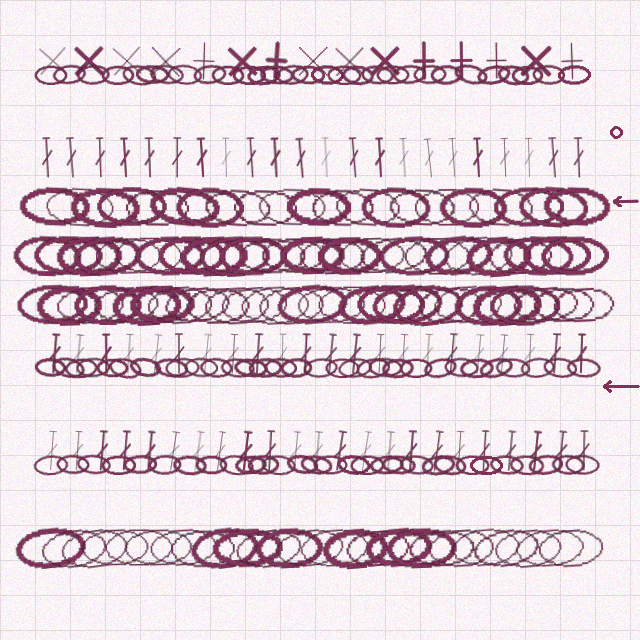chain: (468, 522, 543, 573), (57, 523, 132, 573), (37, 523, 111, 573), (231, 523, 305, 573), (390, 281, 466, 329), (272, 524, 348, 572), (422, 231, 496, 280), (188, 523, 262, 572), (335, 281, 409, 329), (275, 281, 350, 328), (370, 281, 445, 328), (160, 281, 233, 329), (147, 183, 221, 230), (356, 232, 430, 279), (441, 232, 515, 279), (13, 524, 87, 571), (448, 524, 522, 571), (297, 525, 371, 571), (413, 281, 485, 328), (341, 524, 413, 571), (363, 524, 435, 571), (71, 233, 144, 279), (90, 282, 163, 328), (218, 282, 291, 328), (255, 282, 328, 328), (470, 282, 543, 328), (491, 525, 564, 571), (513, 525, 586, 571), (43, 184, 117, 229), (53, 282, 126, 327), (431, 282, 504, 327), (320, 525, 391, 571), (198, 234, 272, 278), (332, 184, 404, 229), (465, 184, 537, 229), (517, 184, 589, 229), (144, 282, 216, 327), (509, 282, 581, 327), (147, 525, 219, 570), (405, 525, 477, 570), (535, 525, 607, 570), (464, 233, 534, 279), (378, 234, 451, 278), (502, 234, 575, 278), (238, 283, 311, 327), (484, 233, 555, 278), (425, 525, 496, 570), (201, 185, 273, 229), (110, 283, 182, 327), (201, 283, 273, 327), (211, 526, 283, 570), (122, 526, 195, 569), (69, 185, 140, 229), (453, 283, 524, 327), (18, 185, 90, 228), (336, 234, 408, 277), (16, 283, 88, 326), (385, 526, 457, 569), (549, 283, 619, 327), (295, 284, 368, 326), (386, 185, 457, 228), (12, 234, 83, 277), (296, 234, 367, 277), (79, 526, 150, 569), (254, 526, 325, 569), (360, 186, 432, 228), (542, 185, 612, 228), (178, 234, 248, 277), (256, 186, 327, 228), (438, 186, 509, 228), (493, 186, 564, 228), (93, 235, 164, 277), (134, 235, 205, 277), (236, 235, 307, 277), (489, 284, 560, 326), (55, 234, 124, 277), (278, 234, 347, 277), (128, 283, 197, 326), (96, 186, 168, 227), (316, 284, 388, 325), (182, 284, 252, 326), (168, 527, 238, 569), (33, 235, 104, 276), (103, 527, 174, 568), (122, 186, 191, 228), (175, 186, 244, 228), (230, 186, 299, 228), (218, 235, 287, 277), (540, 235, 609, 277), (35, 284, 104, 326), (412, 186, 482, 227), (113, 235, 183, 276), (157, 235, 227, 276), (73, 284, 143, 325), (285, 186, 353, 228), (309, 186, 377, 228), (316, 235, 384, 277), (530, 284, 598, 326), (259, 235, 328, 276), (402, 235, 471, 276), (522, 235, 591, 276), (356, 284, 425, 325), (477, 354, 515, 382), (452, 61, 489, 88), (50, 354, 87, 381), (475, 62, 512, 88), (422, 355, 459, 381), (107, 355, 143, 381), (218, 453, 255, 477), (128, 355, 163, 380), (285, 452, 320, 477), (121, 63, 157, 87), (153, 356, 189, 380), (337, 356, 373, 380), (355, 356, 391, 380), (420, 453, 456, 477), (432, 453, 468, 477), (527, 453, 564, 476), (496, 63, 531, 87), (299, 453, 334, 477), (167, 63, 203, 86), (192, 63, 228, 86), (542, 356, 578, 379), (52, 63, 87, 86), (149, 63, 184, 86), (520, 356, 555, 379), (76, 453, 111, 476), (336, 453, 371, 476), (495, 357, 531, 379), (33, 454, 69, 476), (509, 454, 545, 476), (275, 63, 309, 86), (246, 64, 281, 86), (259, 64, 294, 86), (360, 64, 395, 86), (220, 357, 255, 379), (233, 357, 268, 379), (303, 357, 338, 379), (459, 357, 494, 379), (566, 357, 601, 379), (172, 454, 207, 476), (261, 454, 296, 476), (369, 454, 404, 476), (381, 454, 416, 476), (399, 454, 434, 476), (489, 454, 524, 476), (341, 64, 375, 86), (64, 357, 98, 379), (381, 357, 415, 379), (234, 454, 268, 476), (392, 64, 427, 85), (165, 357, 200, 378), (444, 357, 479, 378), (565, 454, 600, 475), (76, 64, 110, 85), (135, 64, 169, 85), (310, 64, 344, 85), (413, 64, 447, 85), (557, 64, 591, 85), (76, 357, 110, 378), (184, 357, 218, 378), (199, 357, 233, 378), (248, 357, 282, 378), (368, 357, 402, 378), (56, 454, 90, 475), (123, 454, 157, 475), (148, 454, 182, 475), (551, 454, 585, 475), (325, 358, 360, 378), (101, 455, 136, 475), (313, 455, 348, 475), (455, 455, 490, 475), (430, 64, 463, 85), (532, 64, 565, 85), (34, 357, 67, 378), (264, 357, 297, 378), (280, 357, 313, 378), (247, 454, 280, 475), (34, 65, 68, 85), (101, 65, 135, 85), (211, 65, 245, 85), (232, 65, 266, 85), (291, 65, 325, 85), (327, 65, 361, 85), (376, 65, 410, 85), (399, 358, 433, 378), (350, 455, 384, 475), (469, 455, 503, 475), (511, 65, 544, 85), (96, 358, 129, 378), (195, 455, 228, 475)
double: (163, 430, 183, 472), (188, 430, 208, 472), (330, 430, 350, 472), (356, 430, 375, 472), (420, 137, 438, 179), (147, 333, 165, 375), (197, 333, 215, 375), (322, 333, 340, 375), (346, 333, 364, 375), (211, 430, 229, 472), (237, 430, 255, 472), (428, 430, 446, 472), (527, 430, 545, 472), (552, 430, 570, 472), (70, 333, 87, 375), (470, 333, 487, 375), (494, 333, 511, 375), (287, 430, 304, 472), (309, 430, 326, 472), (381, 430, 398, 472), (502, 430, 519, 472), (63, 137, 80, 178), (545, 137, 562, 178), (46, 333, 63, 374), (547, 333, 564, 374), (43, 430, 60, 471), (403, 430, 420, 471), (293, 137, 309, 179), (142, 430, 158, 472), (39, 137, 55, 178), (117, 137, 133, 178), (194, 137, 210, 178), (318, 137, 334, 178), (346, 137, 362, 178), (372, 137, 388, 178), (396, 137, 412, 178), (445, 137, 461, 178), (470, 137, 486, 178), (121, 333, 137, 374), (225, 333, 241, 374), (250, 333, 266, 374), (395, 333, 411, 374), (420, 333, 436, 374), (444, 333, 460, 374), (94, 430, 110, 471), (117, 430, 133, 471), (262, 430, 278, 471), (451, 430, 467, 471), (142, 137, 157, 178), (244, 137, 259, 178), (268, 137, 283, 178), (497, 137, 512, 178), (571, 137, 586, 178), (298, 333, 313, 374), (372, 333, 387, 374), (522, 333, 537, 374), (574, 333, 589, 374), (70, 430, 85, 471), (477, 430, 492, 471), (93, 137, 107, 178), (170, 137, 184, 178), (219, 137, 233, 178), (522, 137, 536, 178), (99, 333, 113, 374), (172, 333, 186, 374), (577, 430, 591, 471), (276, 333, 289, 374)
noise: (600, 378, 640, 394), (610, 196, 639, 207), (609, 125, 624, 140)
single: (31, 39, 74, 82), (105, 39, 148, 82), (255, 39, 298, 82), (144, 40, 186, 82), (183, 40, 225, 82), (221, 40, 263, 82), (328, 40, 370, 82), (551, 40, 593, 82), (68, 40, 109, 81), (292, 40, 333, 81), (364, 40, 405, 81), (403, 40, 444, 81), (441, 40, 482, 81), (476, 40, 517, 81), (515, 40, 556, 81)
